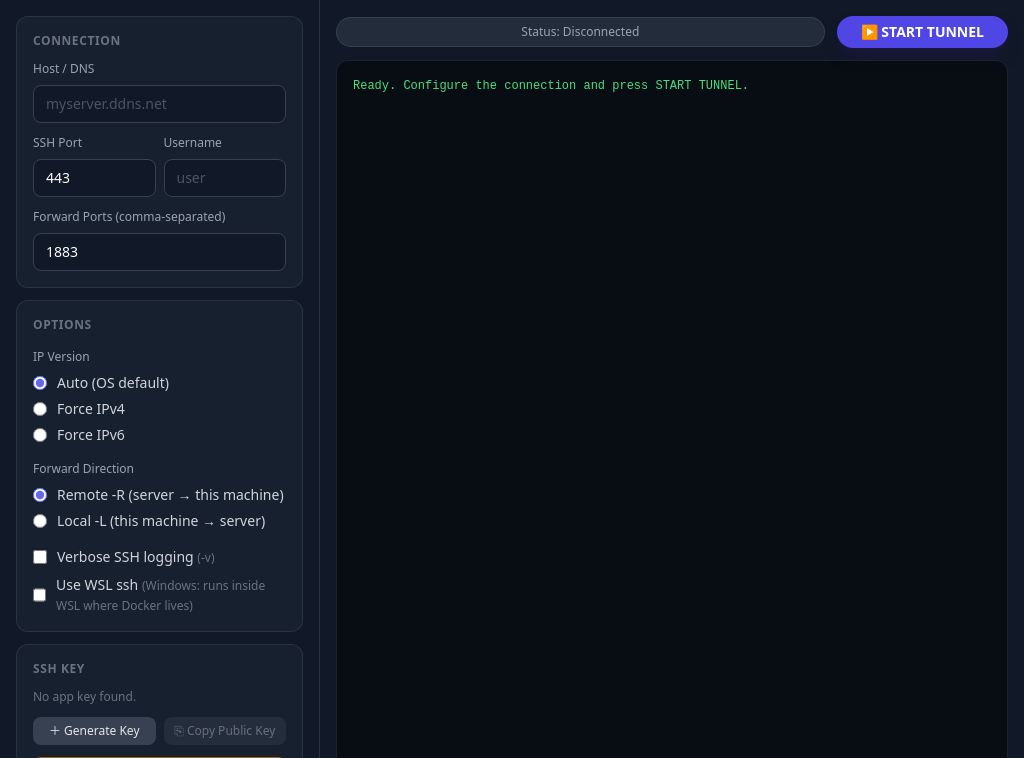
Test case: SshTab toggleTunnel validation › blocks start when host is empty
// Click the START TUNNEL button (rounded-full button)
Click the button "▶ START TUNNEL" at (922, 32), box [837,16,1008,48]
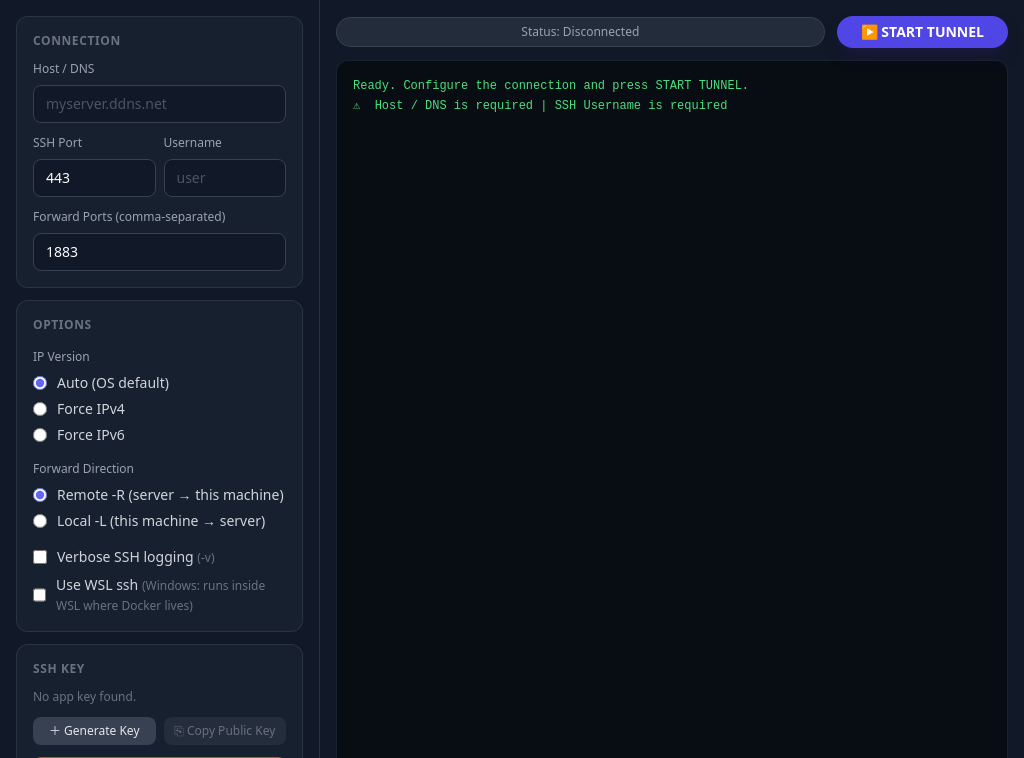
Expected: the text "Host / DNS is required" is shown, [353,79,749,112]
